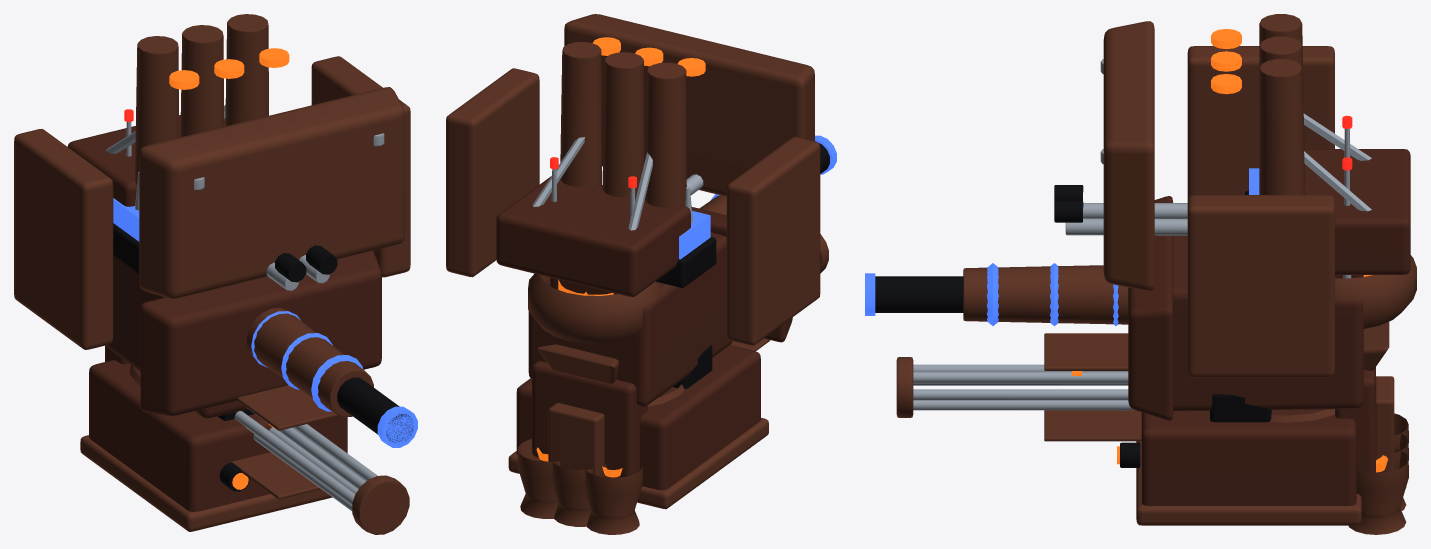
The model's file is krieg.glb.
3 views of the same model, side by side, from view 1: azimuth 30°, elevation 25°; view 2: azimuth 150°, elevation 25°; view 3: azimuth 270°, elevation 25° (orthographic). The views are drawn at different scales.
Visible parts, largest first — view 1: Upgrade_panzer_plate, Upgrade_panzer_body, Upgrade_raketenmk2_body, Upgrade_moerser_plate, Upgrade_minigunmk2_plate, Upgrade_plasma_plate, Upgrade_minigunmk2_hyd, Upgrade_raketenmk2_plate, Raubkopf_body, Upgrade_moerser_body, Upgrade_plasma_krieg_blau, Upgrade_plasma_under (+5 smaller); view 2: Upgrade_panzer_plate, Upgrade_moerser_plate, Upgrade_moerser_body, Upgrade_raketenmk2_body, Raubkopf_body, Upgrade_schubmk2_plate, Upgrade_schubmk2_body, Upgrade_raketenmk2_plate, Upgrade_nanorep_plate, Raubkopf_plate, Upgrade_polizeilicht_under, Upgrade_moerser_hyd (+6 smaller); view 3: Upgrade_panzer_plate, Upgrade_raketenmk2_body, Raubkopf_body, Upgrade_moerser_body, Upgrade_minigunmk2_hyd, Upgrade_moerser_plate, Upgrade_plasma_plate, Upgrade_minigunmk2_plate, Upgrade_panzer_body, Upgrade_raketenmk2_plate, Upgrade_schubmk2_plate, Upgrade_plasma_under (+9 smaller).
Boxes of the visible parts, x1,y1,x2,y2 form: Upgrade_panzer_plate: (14,56,410,349); Upgrade_panzer_body: (140,251,381,415); Upgrade_raketenmk2_body: (89,359,347,511); Upgrade_moerser_plate: (135,14,268,185); Upgrade_minigunmk2_plate: (231,385,409,534); Upgrade_plasma_plate: (247,308,373,417); Upgrade_minigunmk2_hyd: (234,407,377,511); Upgrade_raketenmk2_plate: (80,435,332,531); Raubkopf_body: (105,255,247,418); Upgrade_moerser_body: (67,115,225,206); Upgrade_plasma_krieg_blau: (251,311,417,447); Upgrade_plasma_under: (337,377,413,442); Upgrade_panzer_plate: (446,14,820,345); Upgrade_moerser_plate: (560,42,686,207); Upgrade_moerser_body: (496,176,690,296); Upgrade_raketenmk2_body: (516,345,760,490); Raubkopf_body: (528,232,732,406); Upgrade_schubmk2_plate: (517,439,642,534); Upgrade_schubmk2_body: (532,361,647,477); Upgrade_raketenmk2_plate: (508,402,768,509); Upgrade_nanorep_plate: (528,273,660,343); Raubkopf_plate: (537,344,684,406); Upgrade_polizeilicht_under: (656,237,716,287); Upgrade_moerser_hyd: (532,137,652,230); Upgrade_panzer_plate: (1103,21,1334,377); Upgrade_raketenmk2_body: (1141,409,1356,505); Raubkopf_body: (1173,235,1363,411); Upgrade_moerser_body: (1305,149,1410,274); Upgrade_minigunmk2_hyd: (913,364,1134,410); Upgrade_moerser_plate: (1259,14,1305,194); Upgrade_plasma_plate: (963,265,1128,324); Upgrade_minigunmk2_plate: (896,333,1141,441); Upgrade_panzer_body: (1128,196,1173,420); Upgrade_raketenmk2_plate: (1136,376,1394,525); Upgrade_schubmk2_plate: (1348,413,1408,534); Upgrade_plasma_under: (875,276,963,312).
Size of the model in its own units: 1.9 by 2.5 by 2.7.
